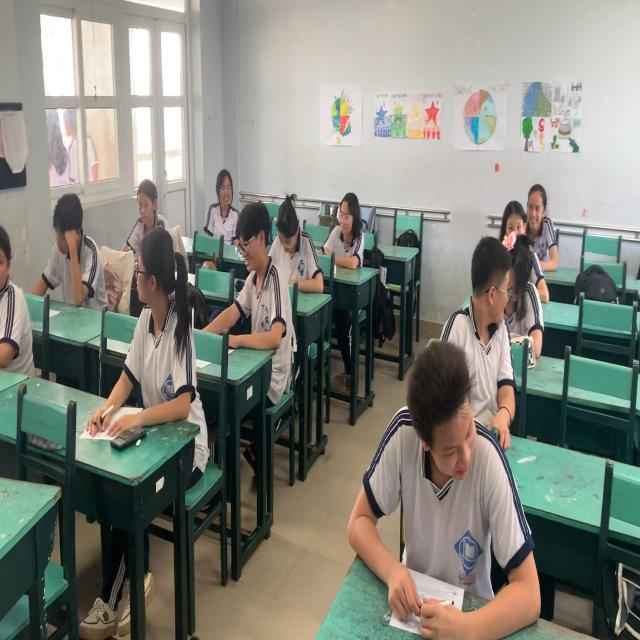cheating: (130, 229, 198, 419)
not_cheating: (344, 347, 513, 626), (453, 243, 524, 423), (233, 208, 283, 349), (46, 188, 95, 308), (275, 190, 319, 288), (318, 188, 365, 270), (522, 180, 562, 270), (208, 164, 243, 243), (126, 174, 167, 236)
